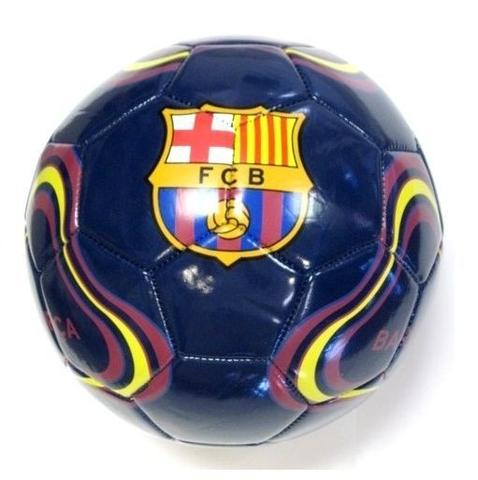blue ball: (22, 36, 446, 448)
